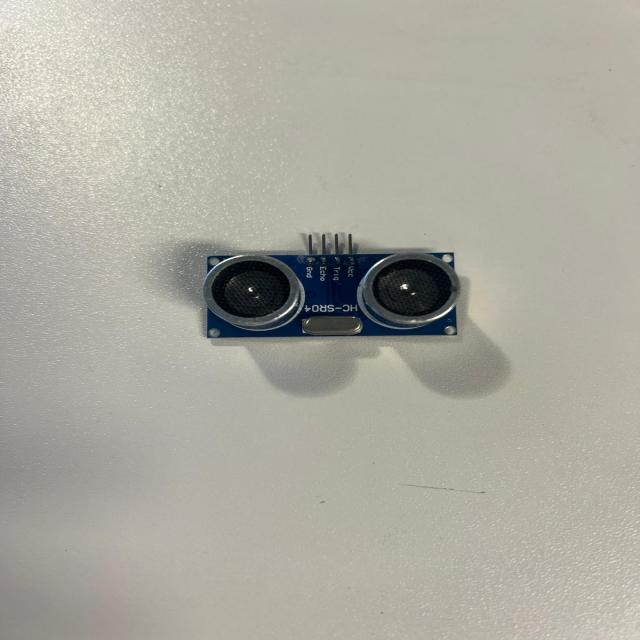UltrasoneSensor: (190, 224, 482, 369)
